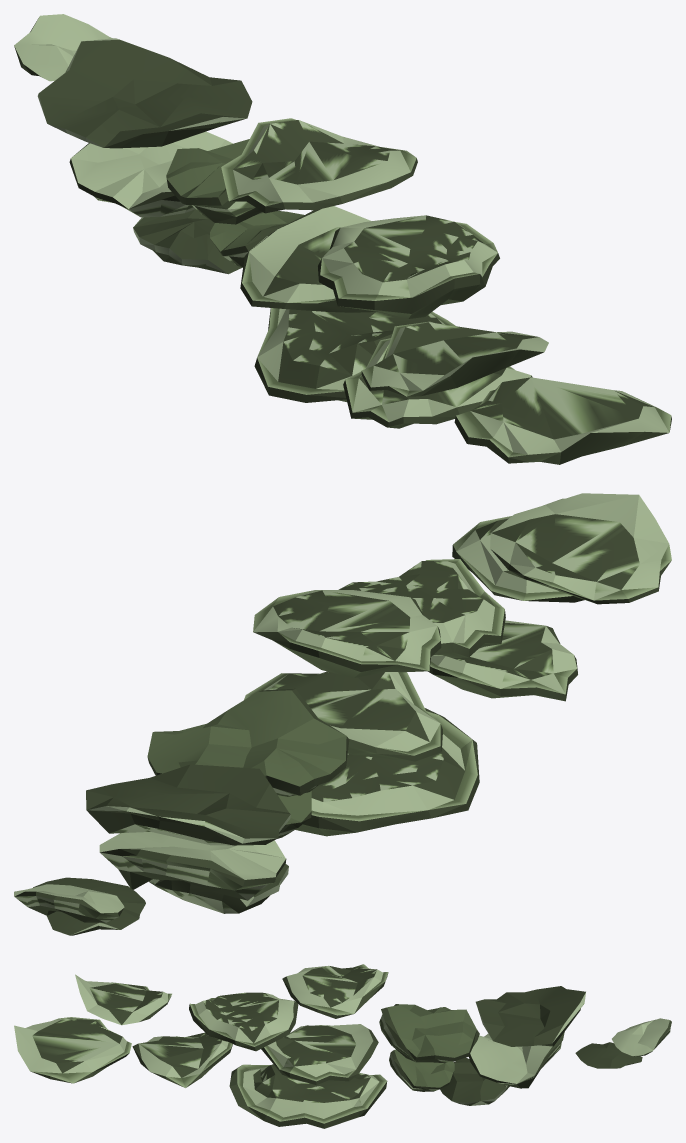
Rendered from EA_Swamp_Fungus_04b.glb.
The picture shows the model from 3 angles, top to bottom: view 1: azimuth 30°, elevation 25°; view 2: azimuth 150°, elevation 25°; view 3: azimuth 270°, elevation 25°; orthographic projection. The views are drawn at different scales.
Parts seen in each view (by area): view 1: EA_Swamp_Fungus_04b; view 2: EA_Swamp_Fungus_04b; view 3: EA_Swamp_Fungus_04b.
Boxes of the visible parts, left/top/right/bottom form: EA_Swamp_Fungus_04b: left=14, top=14, right=671, bottom=464; EA_Swamp_Fungus_04b: left=14, top=493, right=671, bottom=935; EA_Swamp_Fungus_04b: left=14, top=964, right=671, bottom=1128.
Size of the model in its own units: 0.5393 by 0.4533 by 2.1.
1 material, 1 textured.
